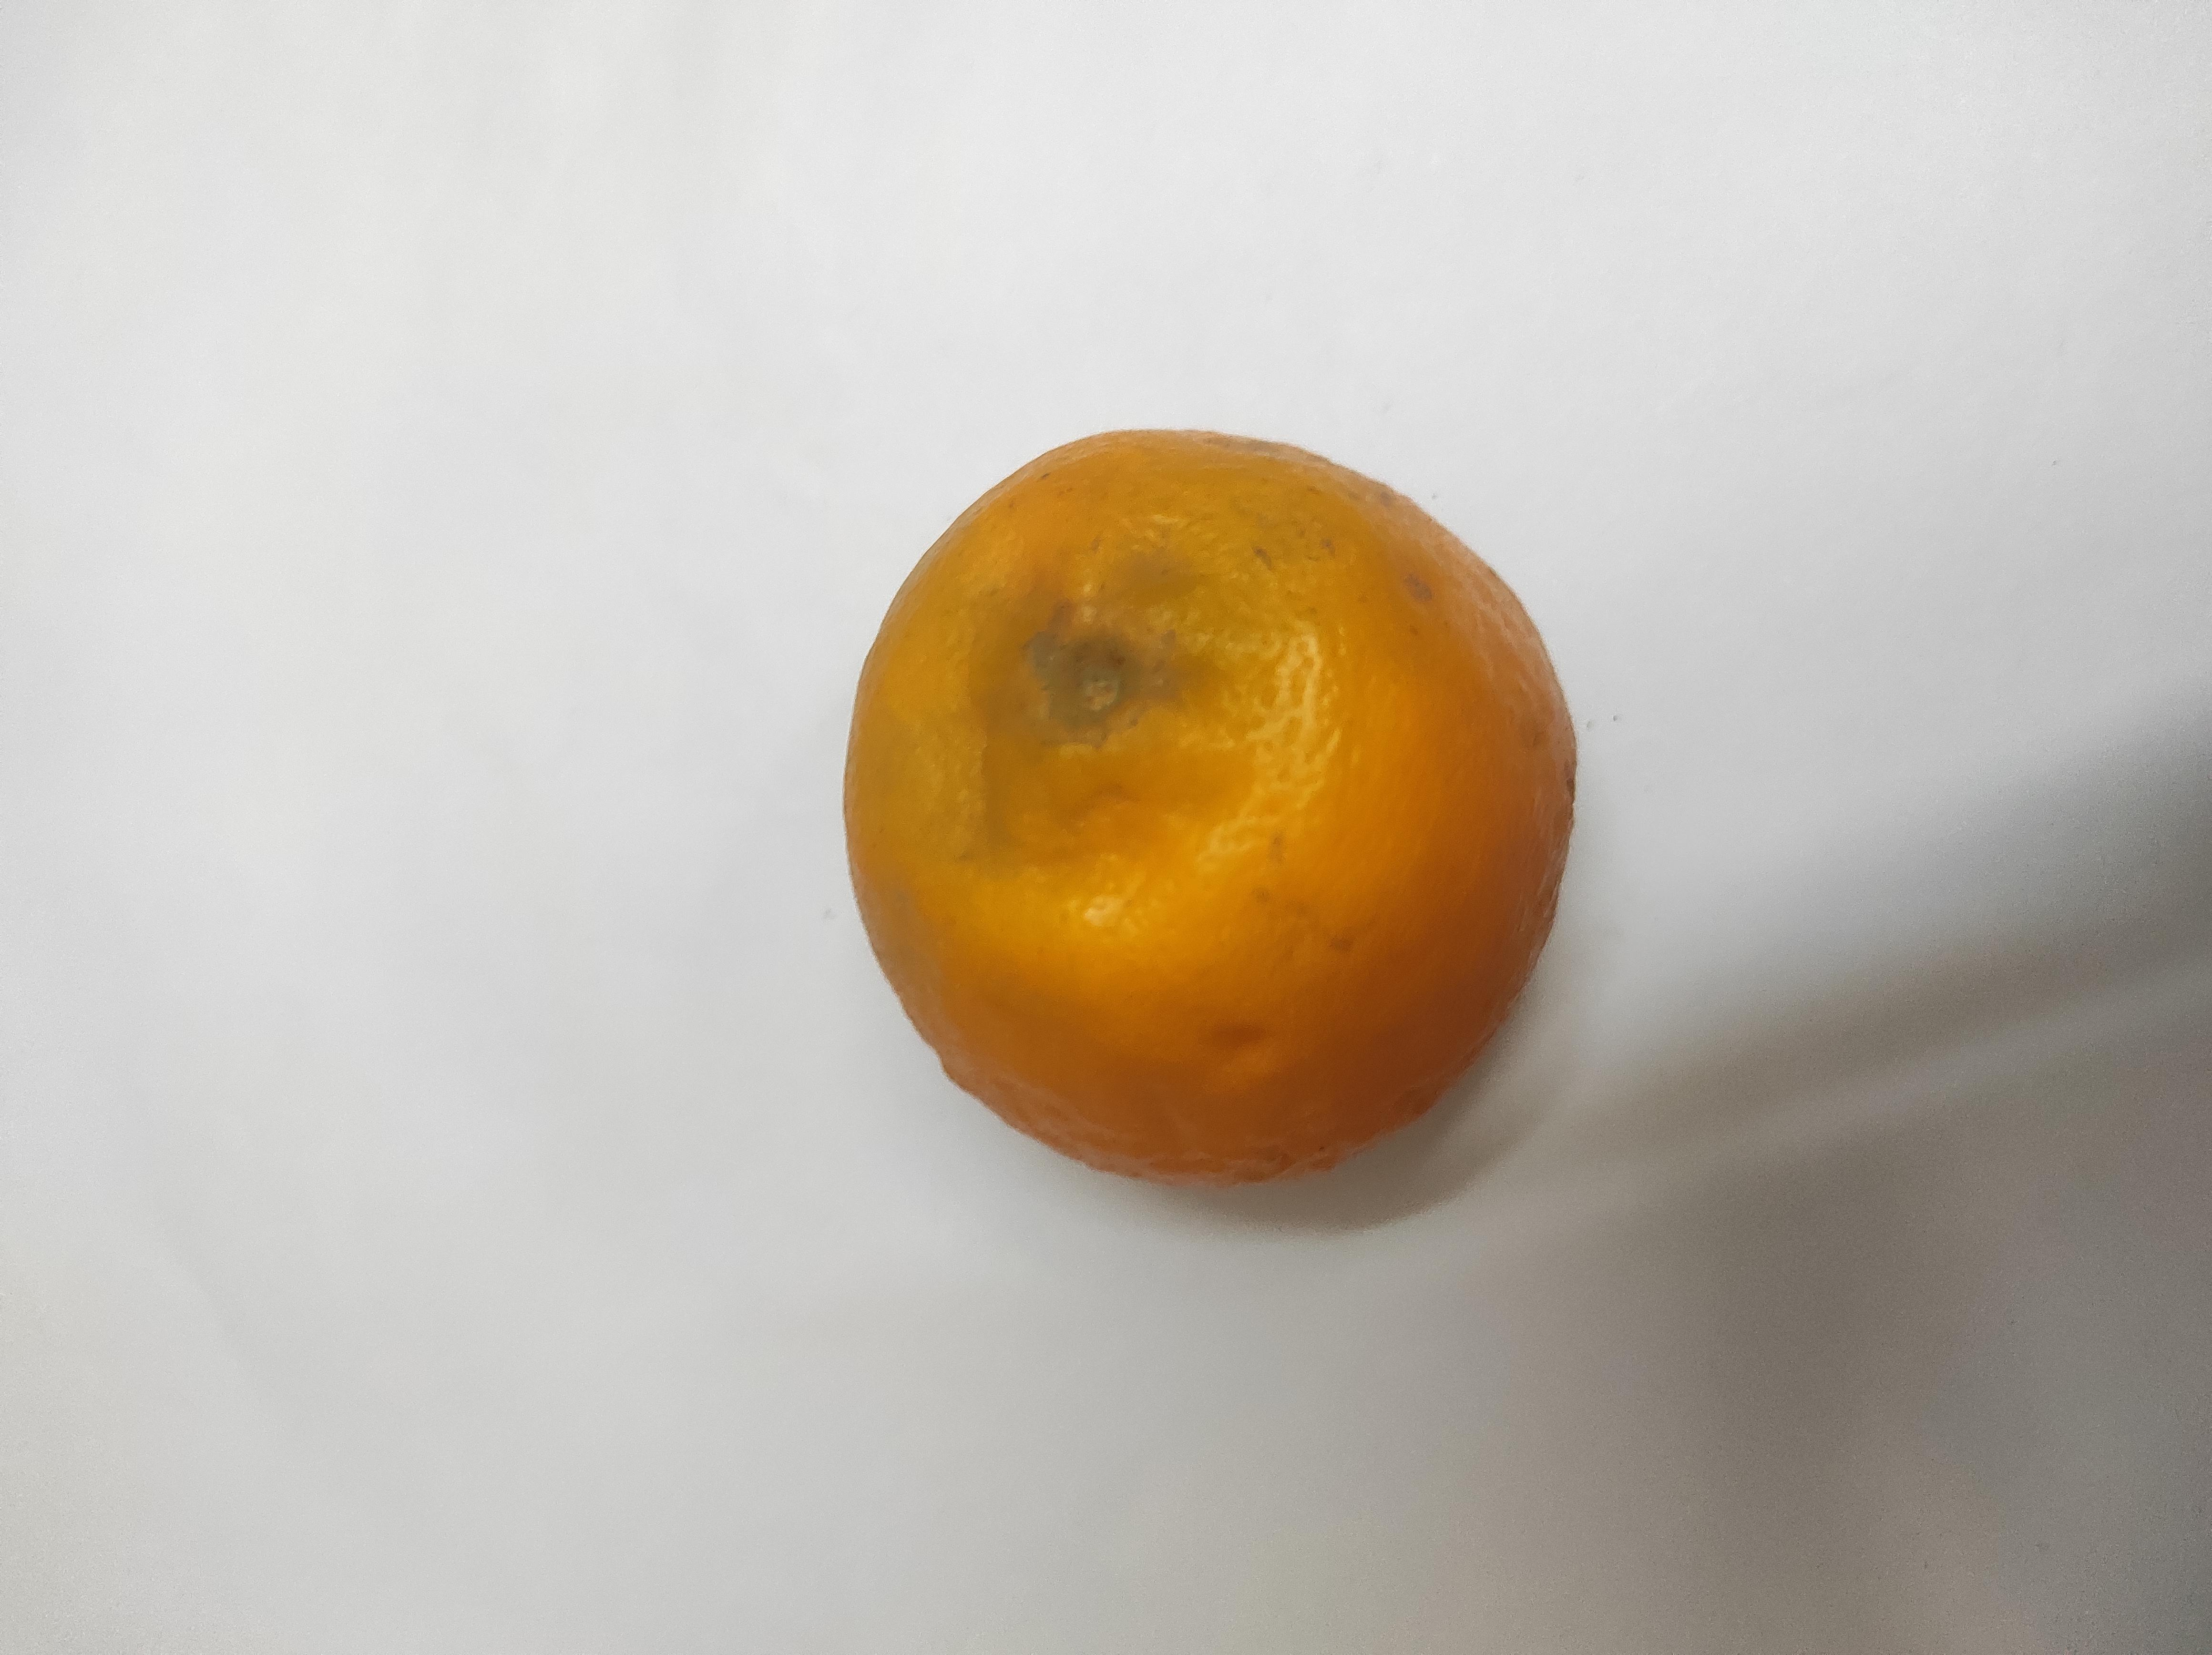Ripe: (636, 624, 1643, 1173)
